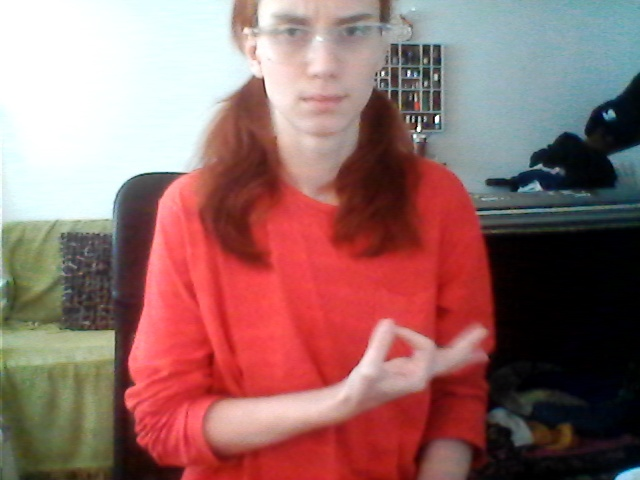co: (352, 316, 509, 409)
